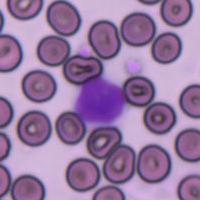L: (72, 73, 128, 127)
